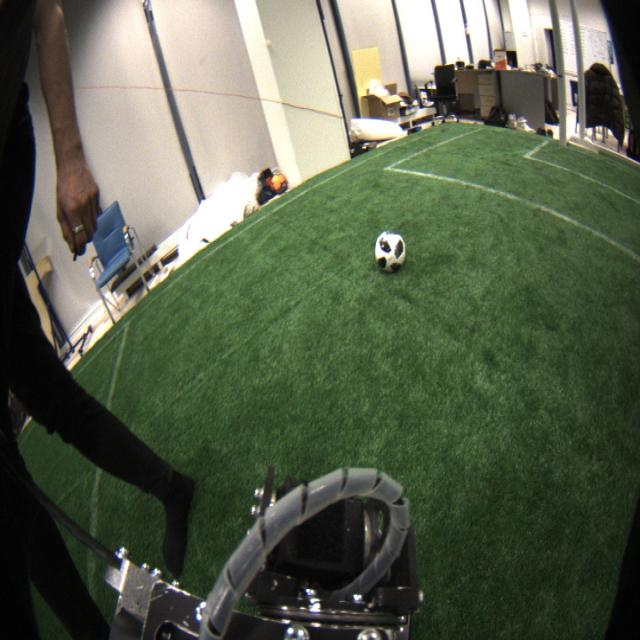ball: (374, 232, 406, 274)
goalpost: (547, 1, 574, 147)
